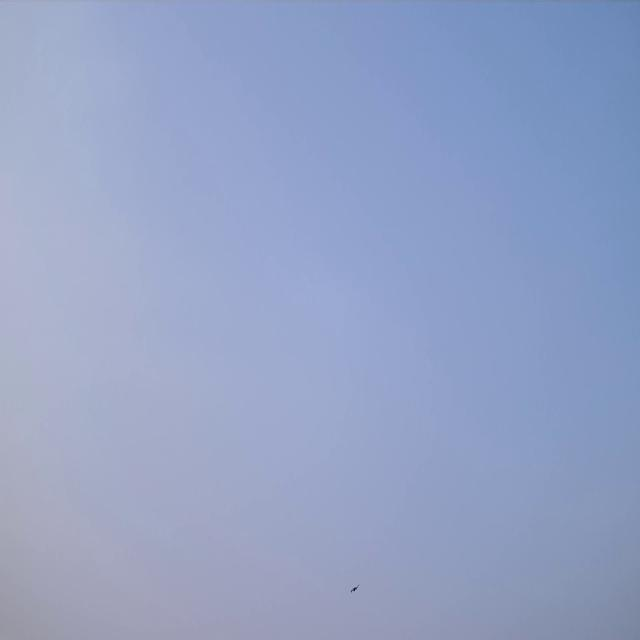UAV: (350, 582, 360, 594)
